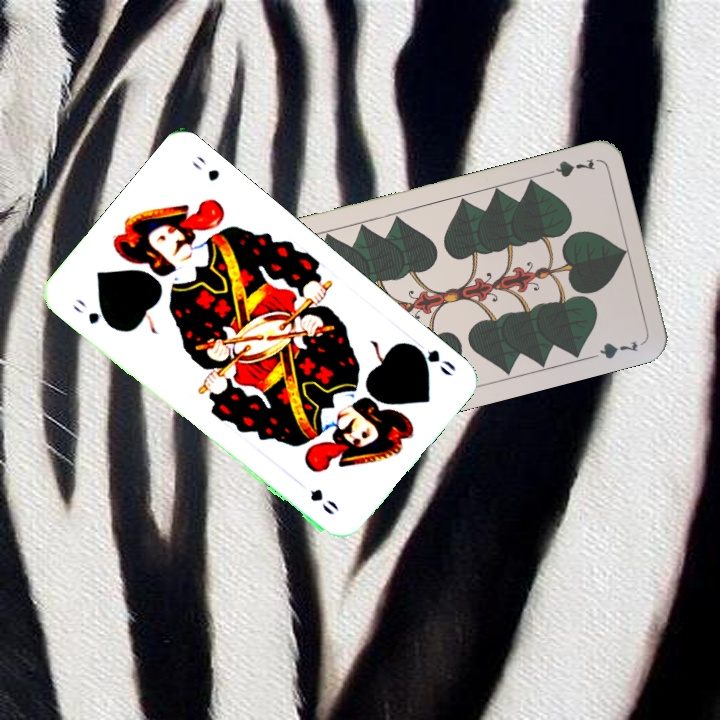G7: (538, 155, 597, 180)
GO: (405, 339, 459, 379), (69, 294, 117, 331)
